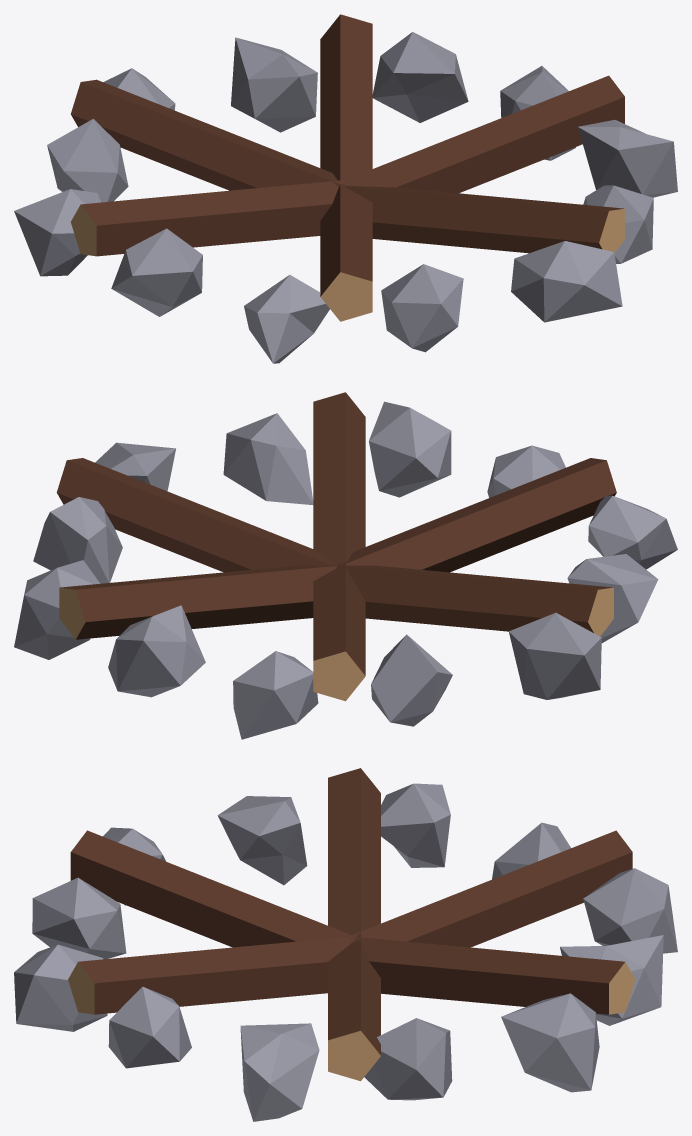
Rendered from CampFire1.fbx.
The picture shows the model from 3 angles, top to bottom: view 1: azimuth 30°, elevation 25°; view 2: azimuth 150°, elevation 25°; view 3: azimuth 270°, elevation 25°; orthographic projection.
Parts seen in each view (by area): view 1: CampFire_1; view 2: CampFire_1; view 3: CampFire_1.
Boxes of the visible parts, x1,y1,x2,y2 form: CampFire_1: (14,14,677,363); CampFire_1: (14,392,677,739); CampFire_1: (14,768,677,1121).
Bounding box in the file's own units: 1.15 × 0.1952 × 1.13.
